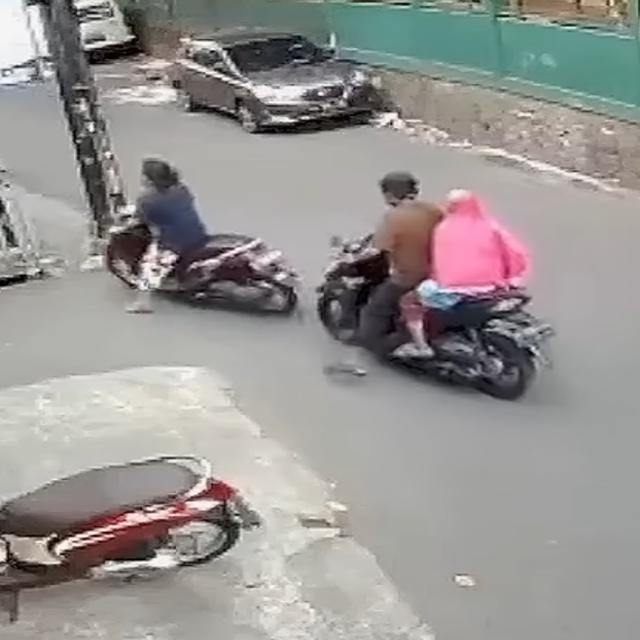WithoutHelmet: (326, 171, 449, 377), (390, 187, 531, 359), (105, 155, 211, 314)
